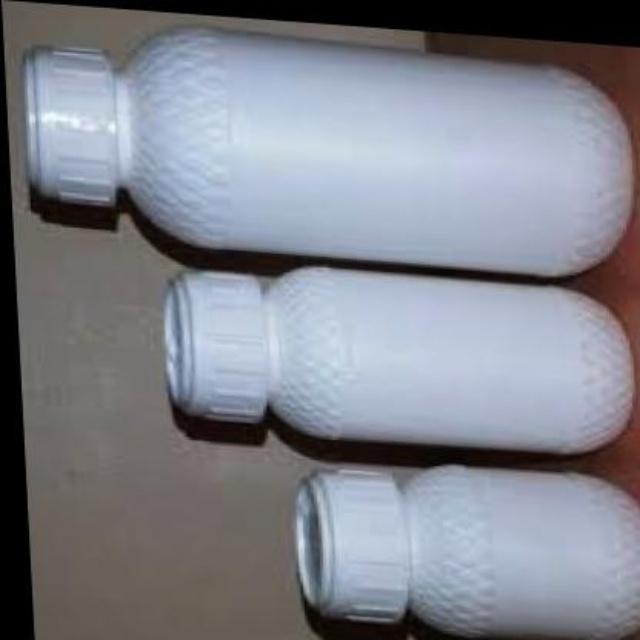trash: (26, 26, 631, 275), (165, 268, 632, 452), (297, 466, 638, 638)
